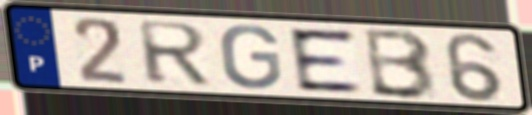2: (72, 15, 131, 86)
6: (442, 30, 507, 104)
B: (363, 27, 440, 102)
E: (284, 27, 366, 94)
G: (217, 22, 285, 91)
R: (133, 19, 214, 87)
